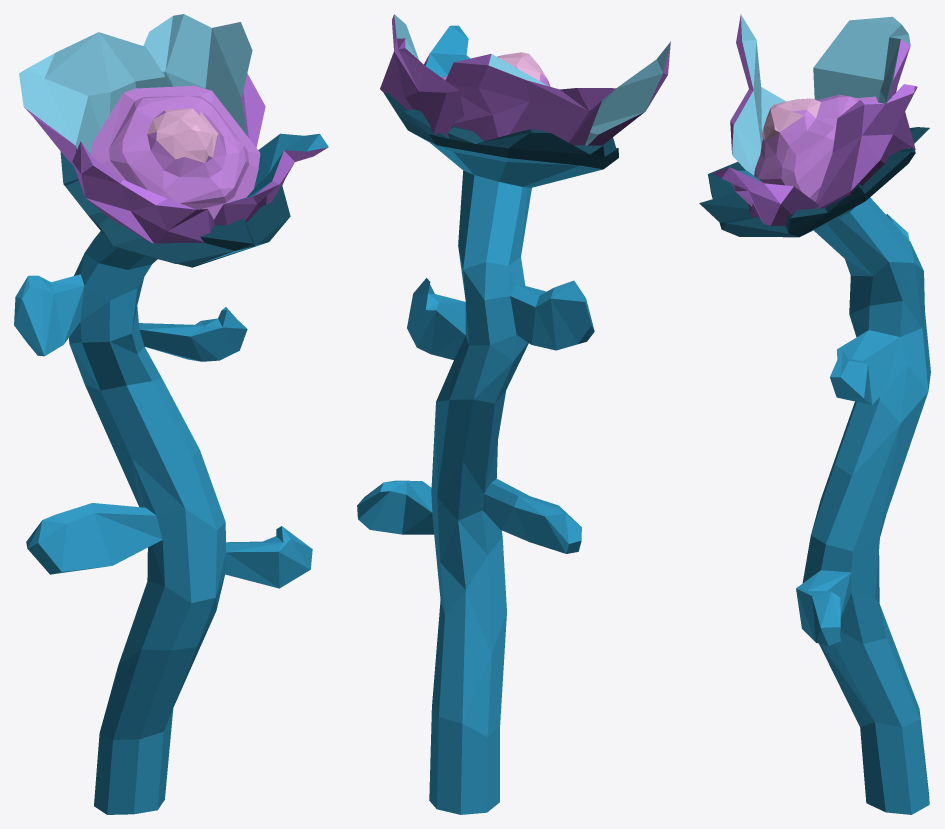
Rendered from LumaGrass v2.fbx.
The picture shows the model from 3 angles, left to right: view 1: azimuth 30°, elevation 25°; view 2: azimuth 150°, elevation 25°; view 3: azimuth 270°, elevation 25°; orthographic projection. The views are drawn at different scales.
Visible parts, largest first — view 1: Circle, Sphere, Cylinder.001, Cylinder.002, Cylinder.004, Cylinder; view 2: Circle, Cylinder.001, Cylinder.002, Cylinder.004, Cylinder, Sphere; view 3: Circle, Sphere, Cylinder.001, Cylinder.002, Cylinder.004, Cylinder.
Boxes of the visible parts, x1,y1,x2,y2 form: Circle: (14, 151, 312, 814); Sphere: (91, 85, 260, 219); Cylinder.001: (19, 32, 168, 165); Cylinder.002: (143, 14, 265, 147); Cylinder.004: (72, 141, 214, 243); Cylinder: (213, 133, 328, 225); Circle: (357, 92, 618, 814); Cylinder.001: (429, 54, 615, 145); Cylinder.002: (380, 14, 463, 136); Cylinder.004: (585, 41, 670, 145); Cylinder: (424, 25, 470, 76); Sphere: (441, 52, 550, 86); Circle: (699, 127, 930, 814); Sphere: (754, 94, 878, 201); Cylinder.001: (813, 16, 910, 148); Cylinder.002: (815, 84, 917, 208); Cylinder.004: (730, 14, 785, 175); Cylinder: (712, 167, 818, 226).
Bounding box in the file's own units: 860 × 2327 × 654.
